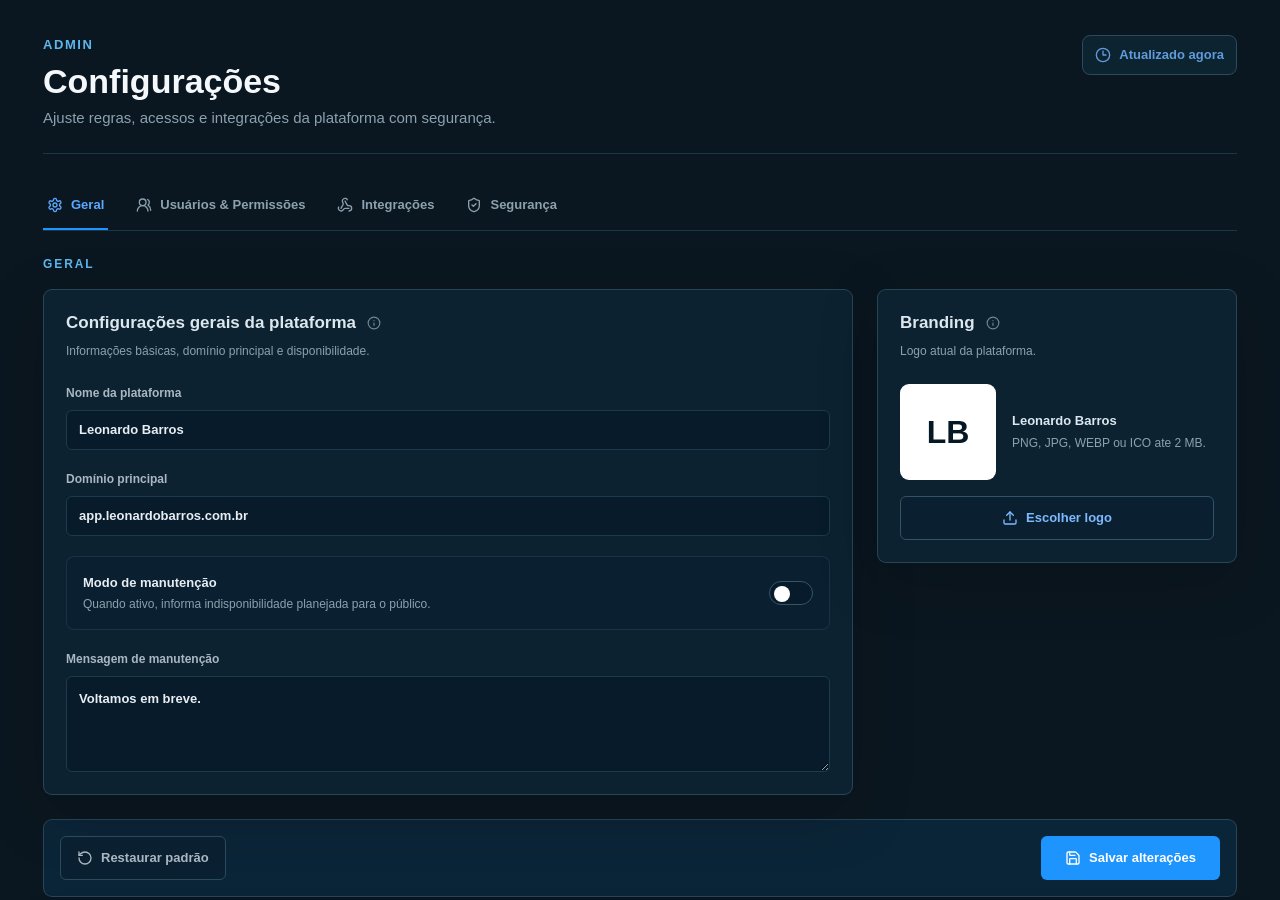
Test: AdminSettingsView › renderiza CRUD de usuarios com protecao visual do admin atual
Click the button "Usuários & Permissões": (221, 206) top-left (132, 182), bottom-right (310, 230)
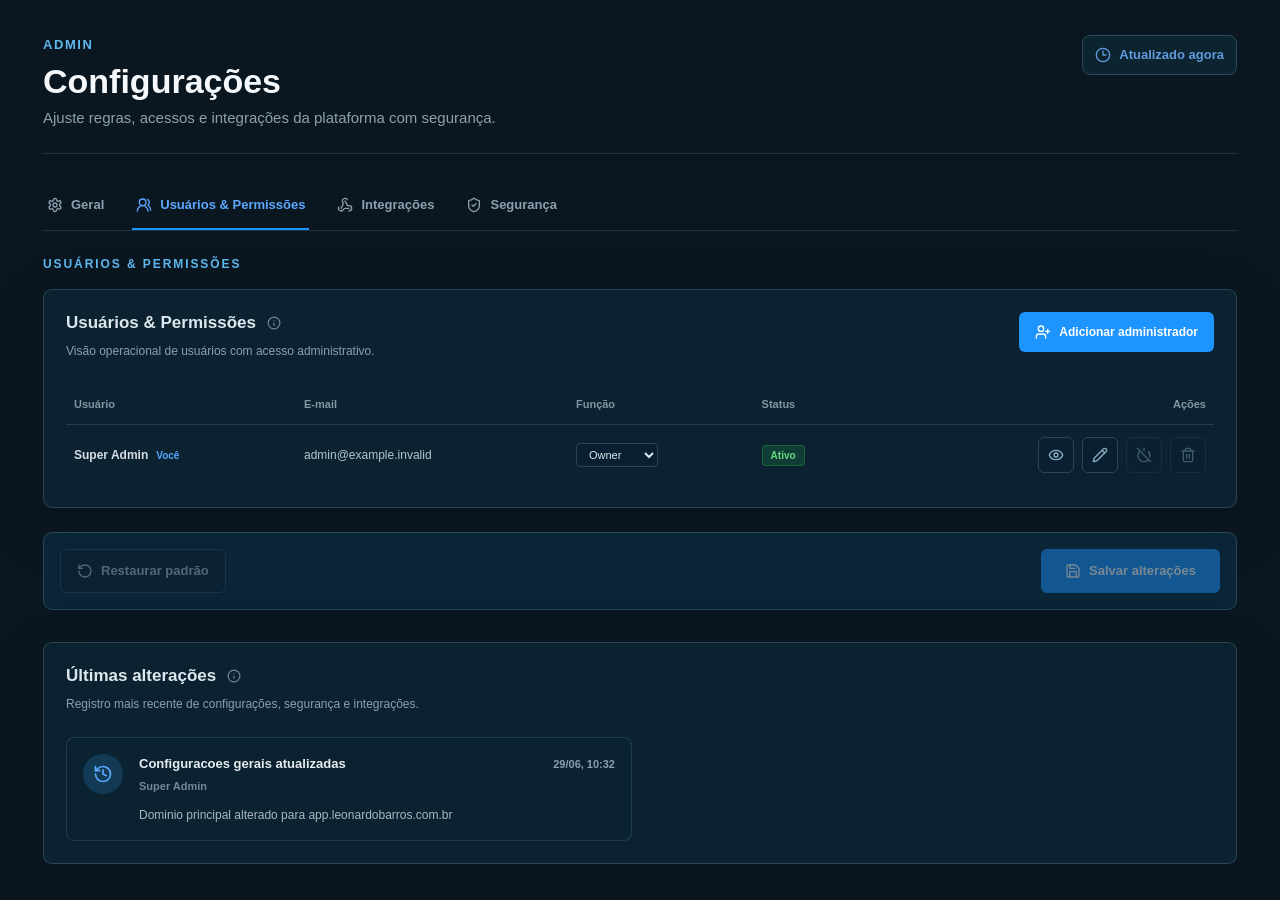
Result: the button "Adicionar administrador" is shown at top-left (1019, 312), bottom-right (1214, 352)
Result: the text "admin@example.invalid" is shown at top-left (296, 424), bottom-right (568, 485)
Result: the 1st button named "A própria conta não pode ser removida" is disabled at top-left (1126, 437), bottom-right (1162, 473)
